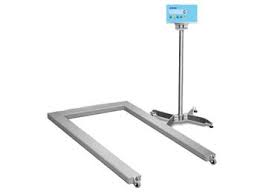Industrial Scale: (46, 4, 219, 188)
